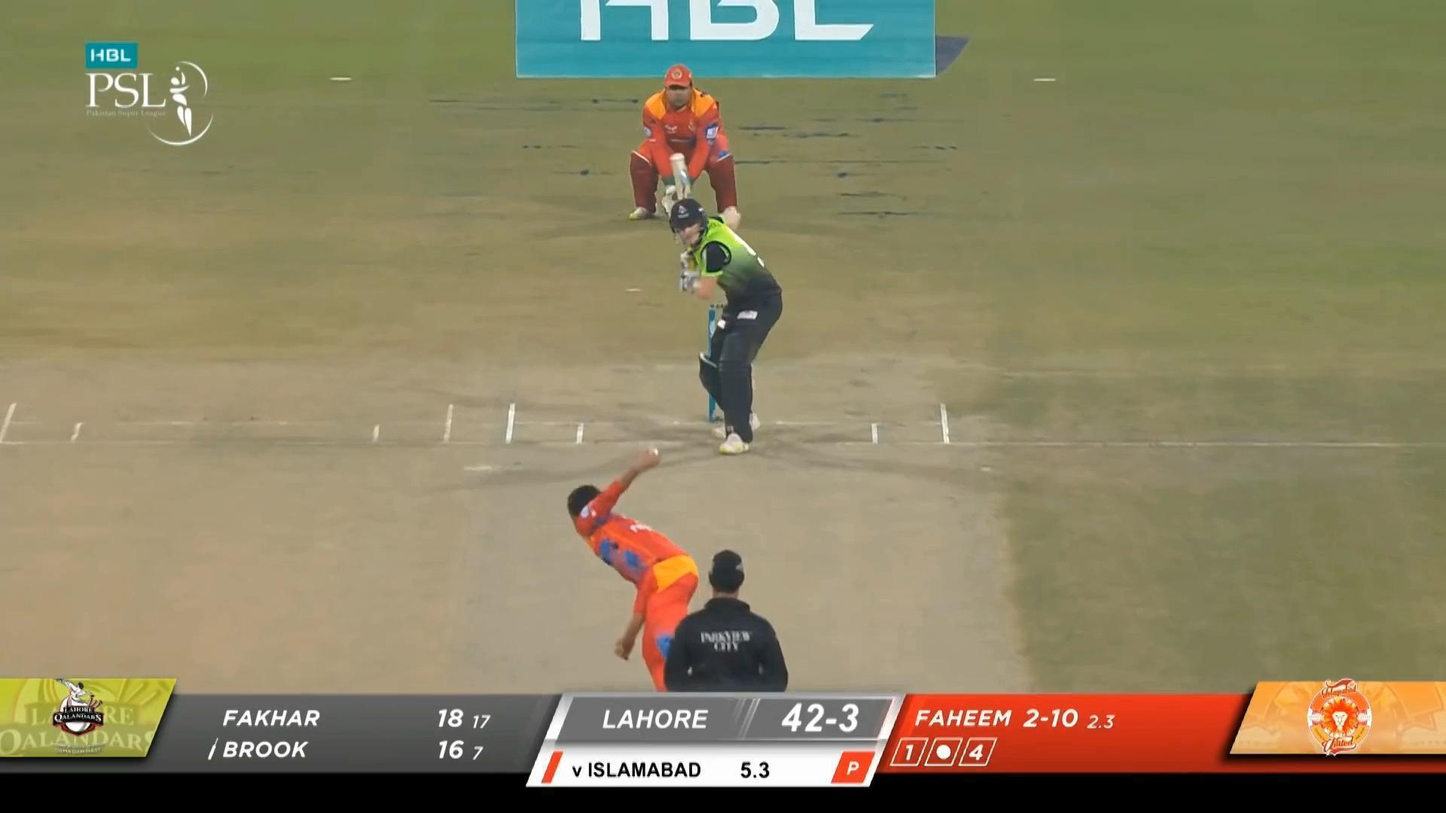BM 1: (666, 149, 785, 456)
BO: (566, 450, 707, 765)
